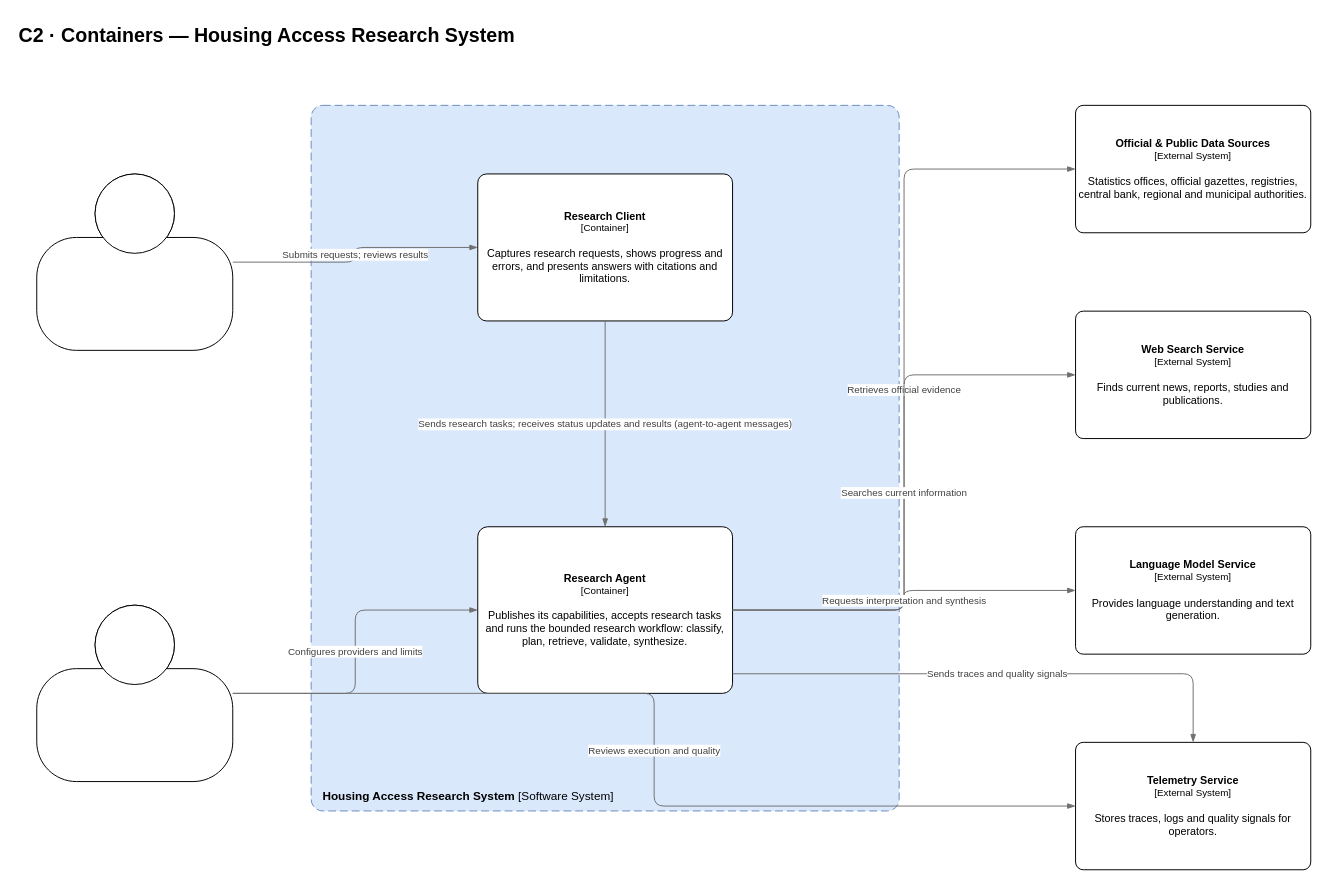
Image size: 1328x887. Some labels were removed from this diagram. Each missing label, with the centre of its shape:
"Housing Information User [Person] Asks housing questions and reviews answers." belongs at (x=134, y=261).
"System Operator [Person] Configures and monitors the system." belongs at (x=134, y=693).
